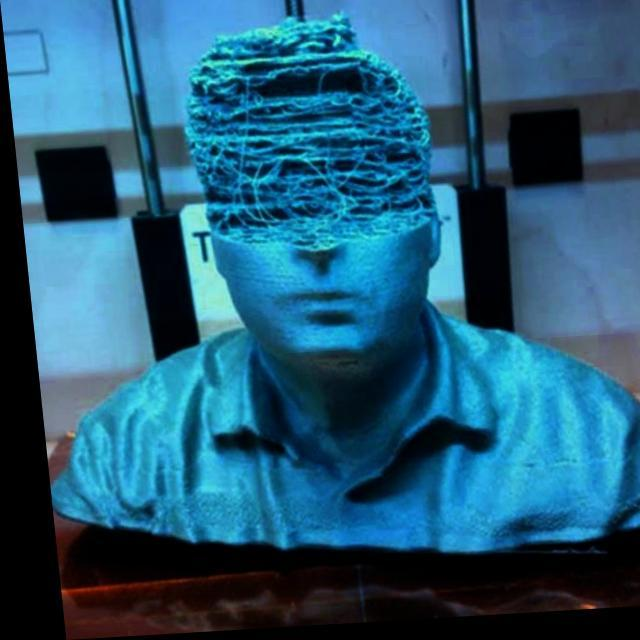spaghetti: (165, 8, 442, 273)
